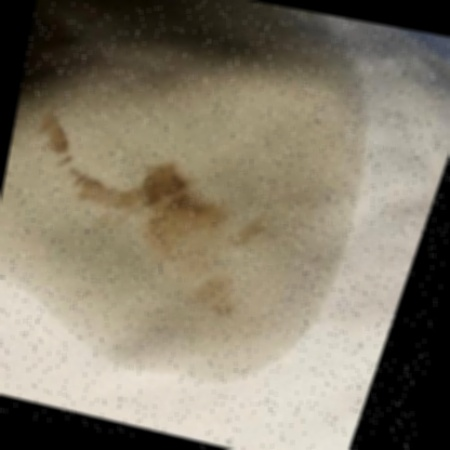coffee: (0, 22, 361, 360)
